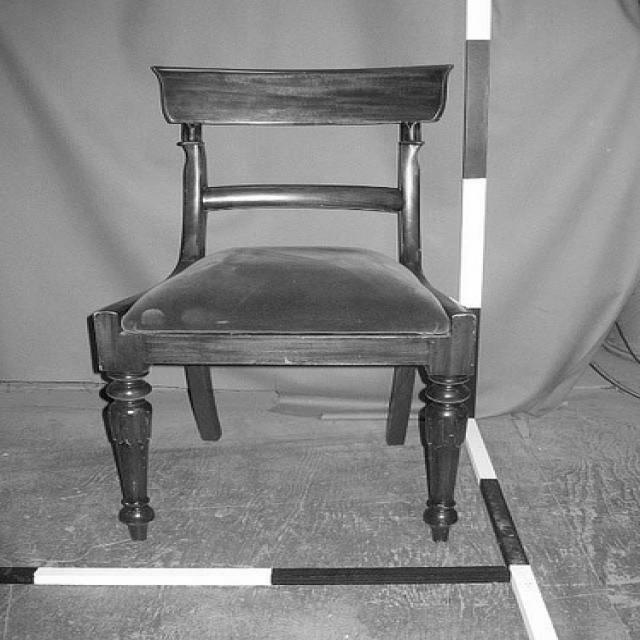chair: (86, 64, 479, 542)
